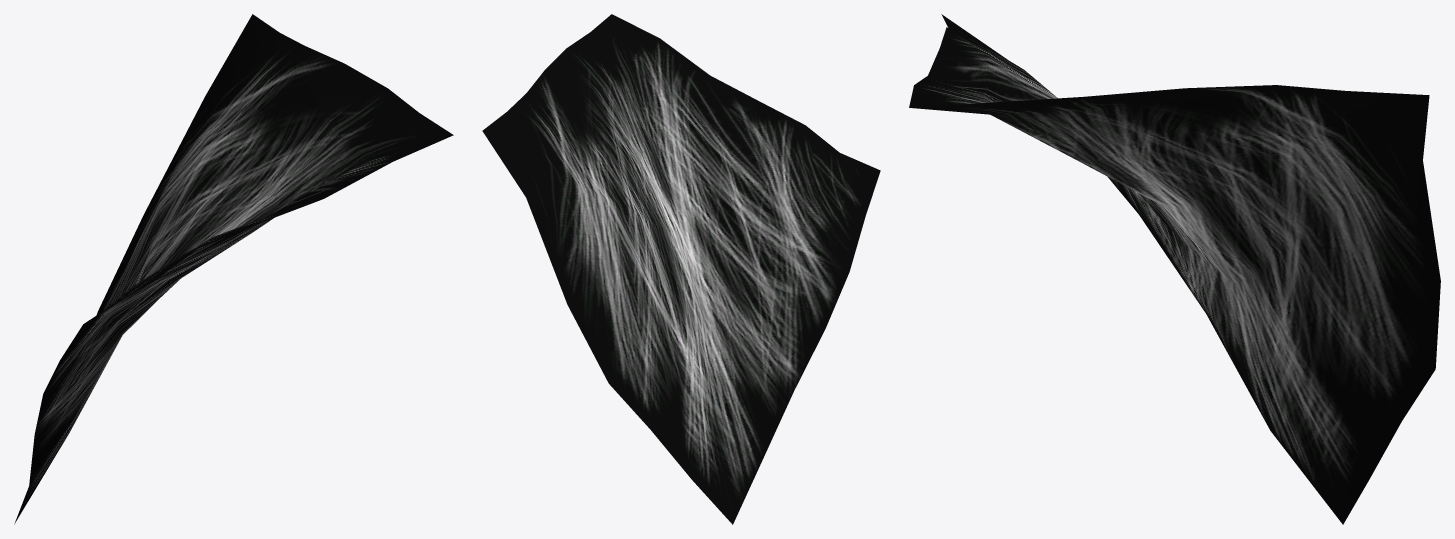
Rendered from SWORDLIGHT20_PS-AREA01_CORNERWEB06.fbx.
The picture shows the model from 3 angles, left to right: view 1: azimuth 30°, elevation 25°; view 2: azimuth 150°, elevation 25°; view 3: azimuth 270°, elevation 25°; orthographic projection. The views are drawn at different scales.
Visible parts, largest first — view 1: SWORDLIGHT20_PS-AREA01_CORNERWEB06; view 2: SWORDLIGHT20_PS-AREA01_CORNERWEB06; view 3: SWORDLIGHT20_PS-AREA01_CORNERWEB06.
Boxes of the visible parts, x1,y1,x2,y2 form: SWORDLIGHT20_PS-AREA01_CORNERWEB06: (14, 14, 453, 524); SWORDLIGHT20_PS-AREA01_CORNERWEB06: (482, 14, 880, 524); SWORDLIGHT20_PS-AREA01_CORNERWEB06: (909, 14, 1440, 524).
Size of the model in its own units: 48626 by 59543 by 45211.
1 material, 1 textured.
